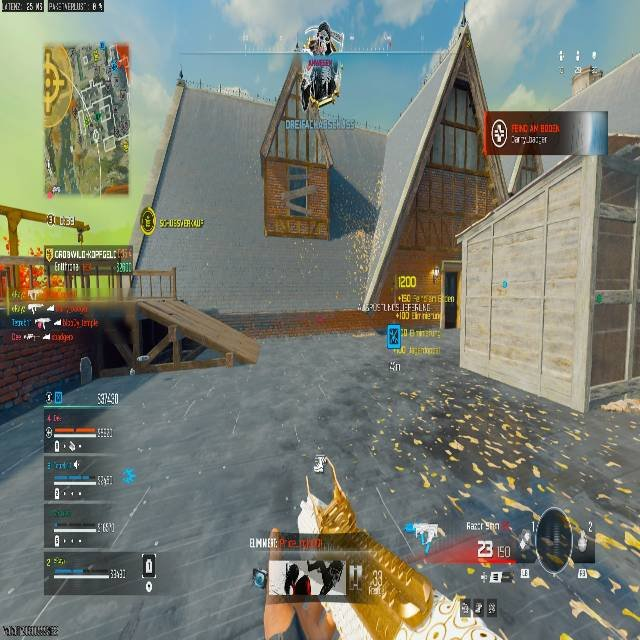player: (302, 21, 343, 109)
